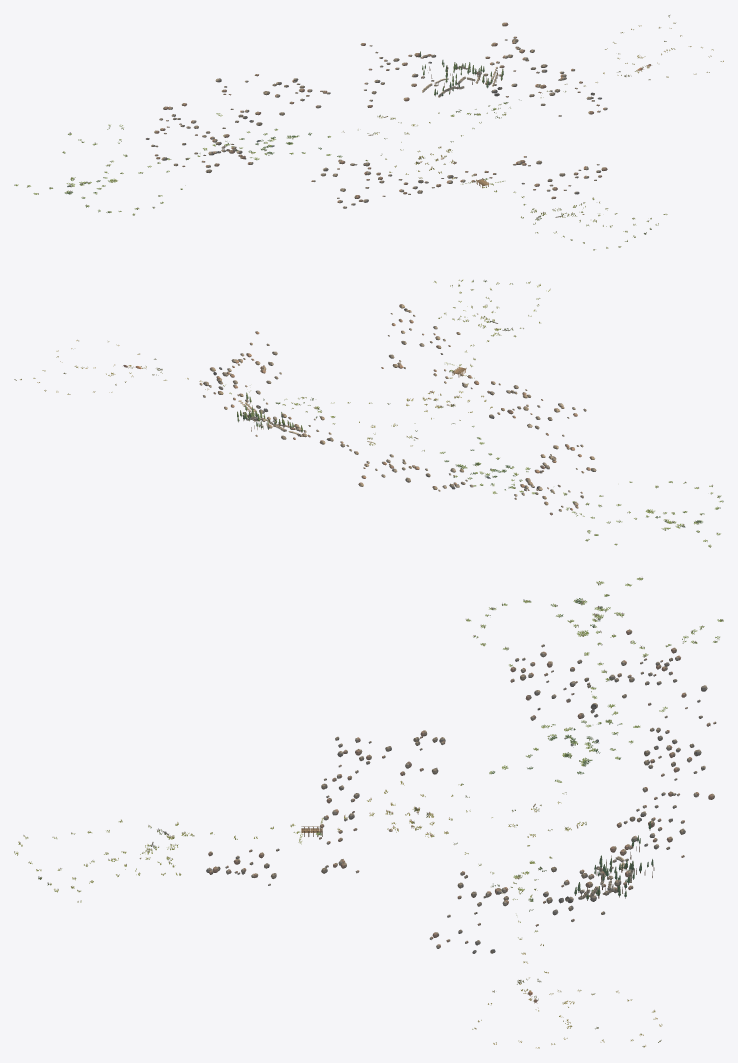
File: island_relief.glb
3 views of the same model, one above another, from view 1: azimuth 30°, elevation 25°; view 2: azimuth 150°, elevation 25°; view 3: azimuth 270°, elevation 25° (orthographic). The views are drawn at different scales.
Size of the model in its own units: 344 by 26.14 by 219.
Materials: 3 (2 with a texture image).
